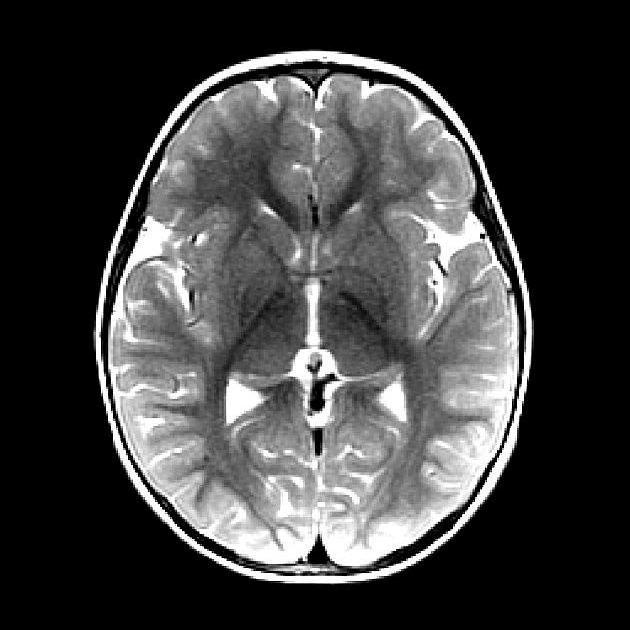Normal_Brain: (9, 1, 630, 630)
